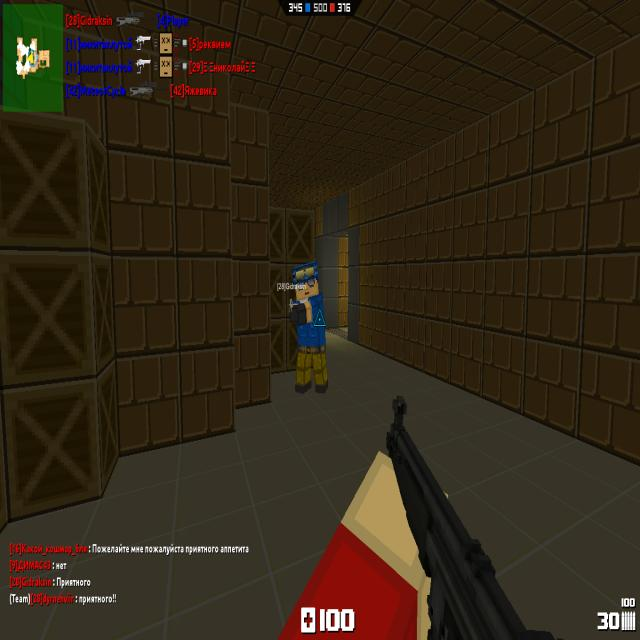enemy: (288, 259, 329, 395)
